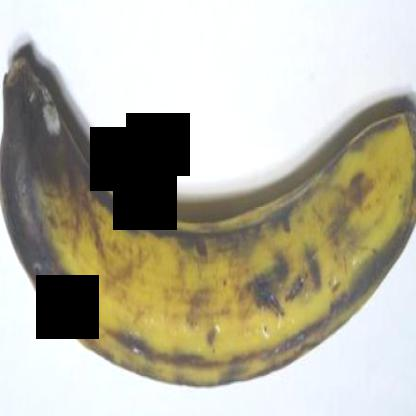overripe: (0, 6, 415, 405)
rotten: (0, 49, 119, 311)
